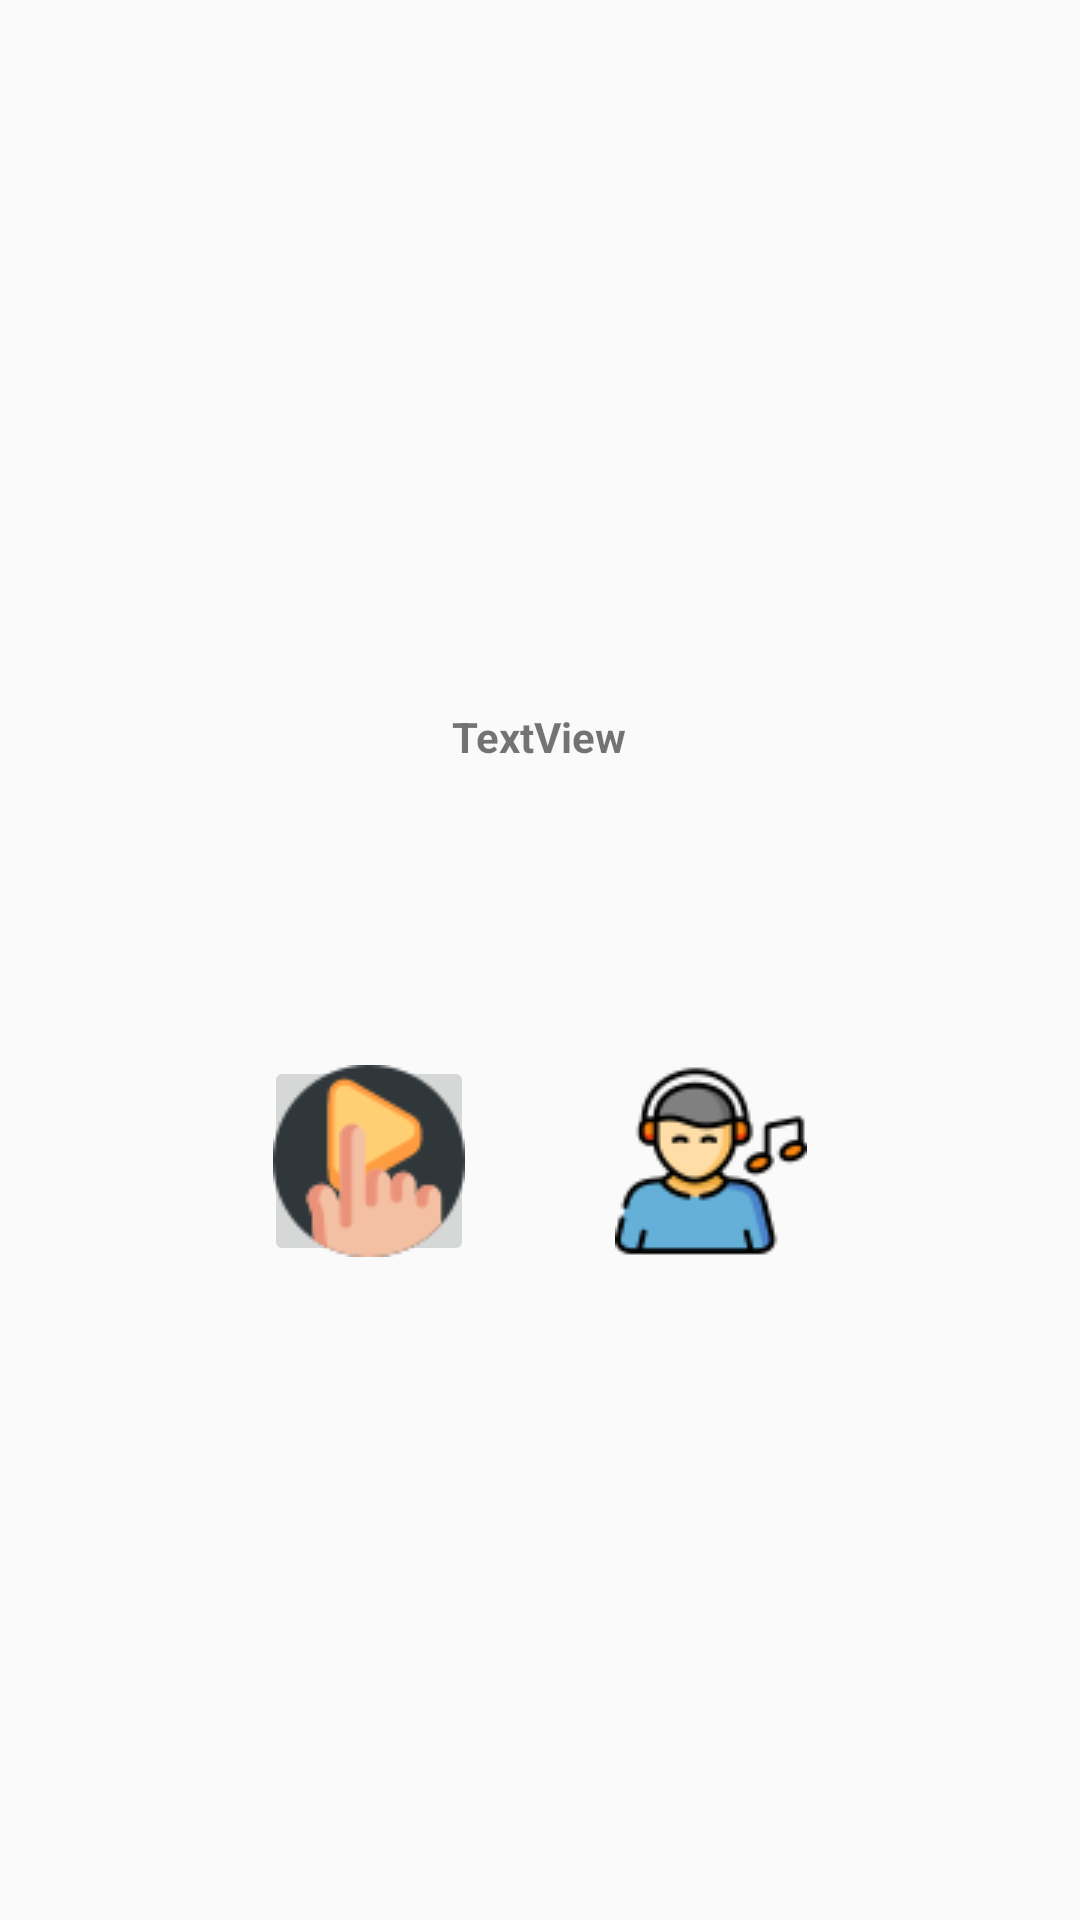

Icon click points for this 1080 × 1920 phone screenshot, format [x,y]:
listen again: [711,1161]
playbutton: [369,1161]
